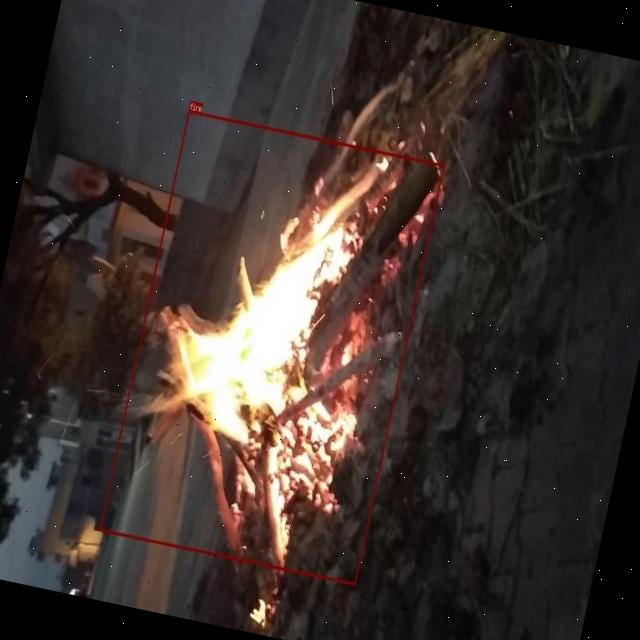fire: (98, 109, 444, 585)
